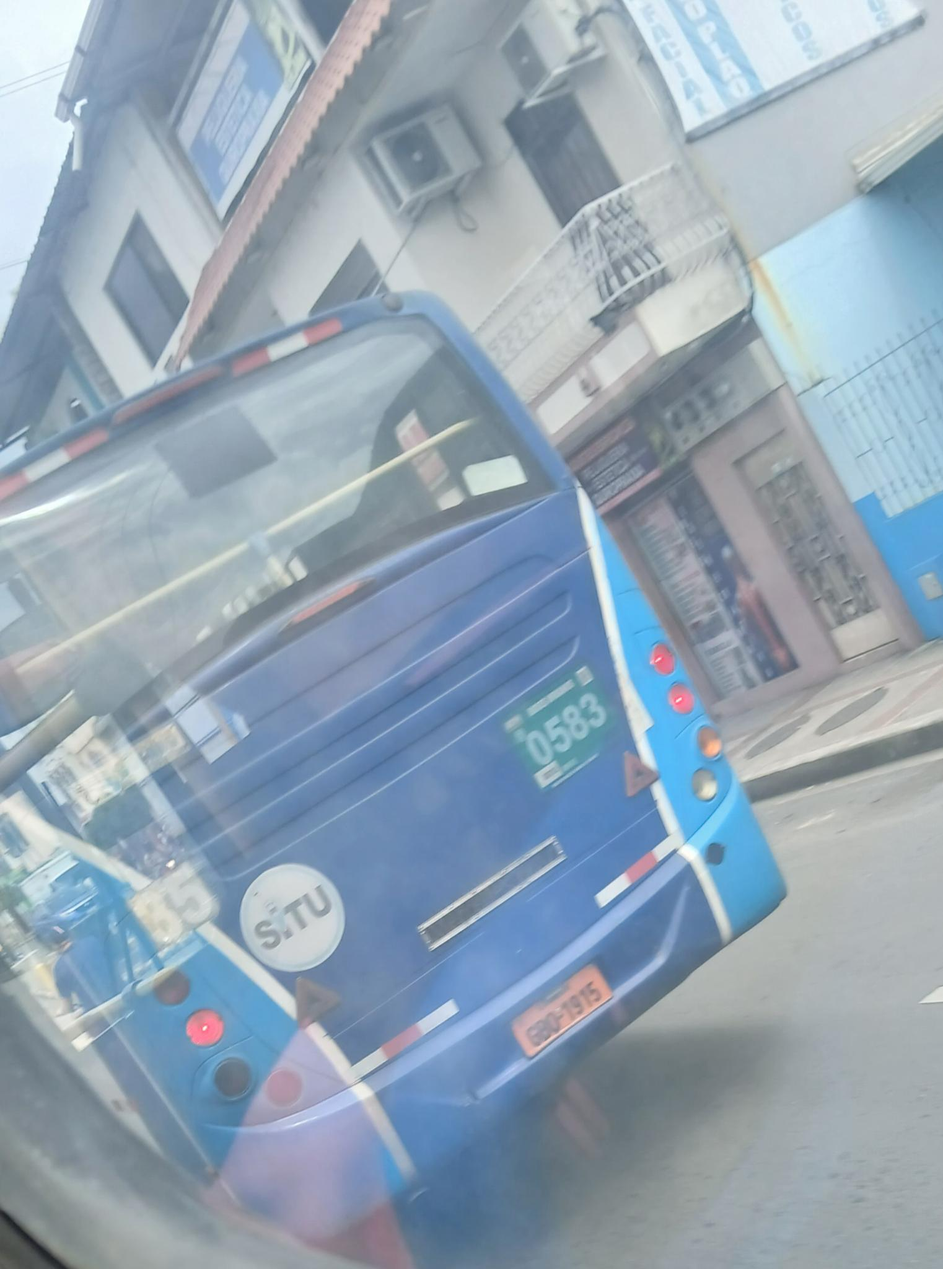license_plate: (511, 963, 612, 1059)
